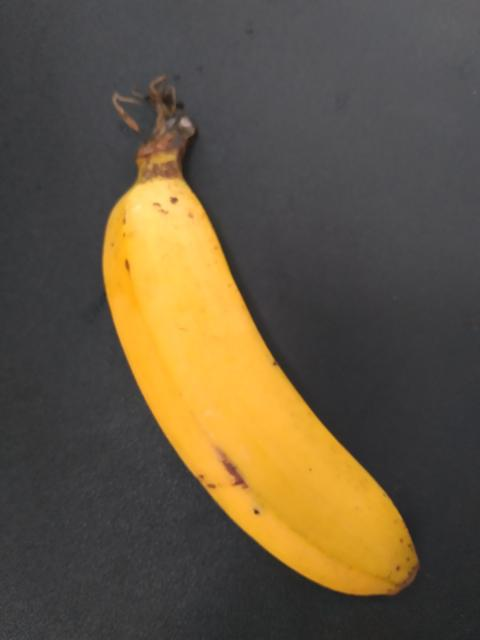freshripe: (91, 169, 448, 639)
